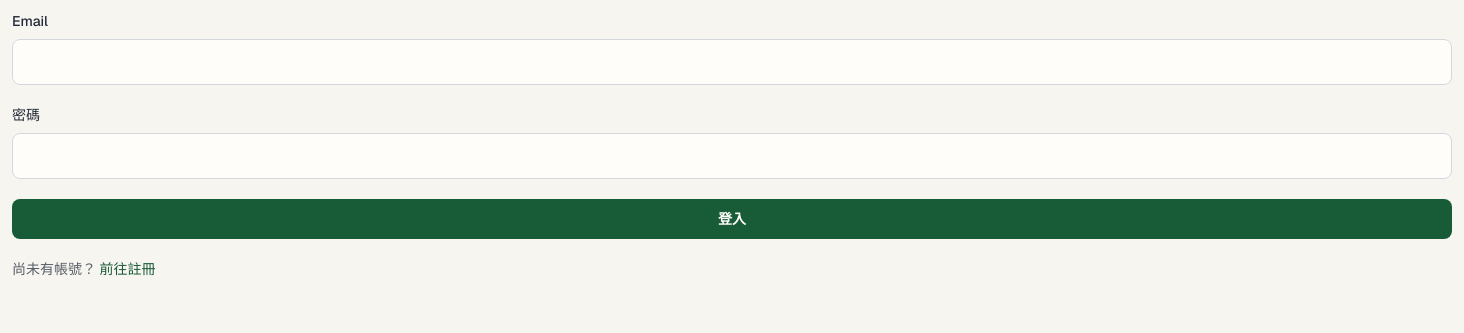
Test case: LoginForm › RATE_LIMITED 時顯示登入太頻繁訊息
Type "user@example.com" into the field labelled "Email" at (732, 62), box [12,39,1452,85]
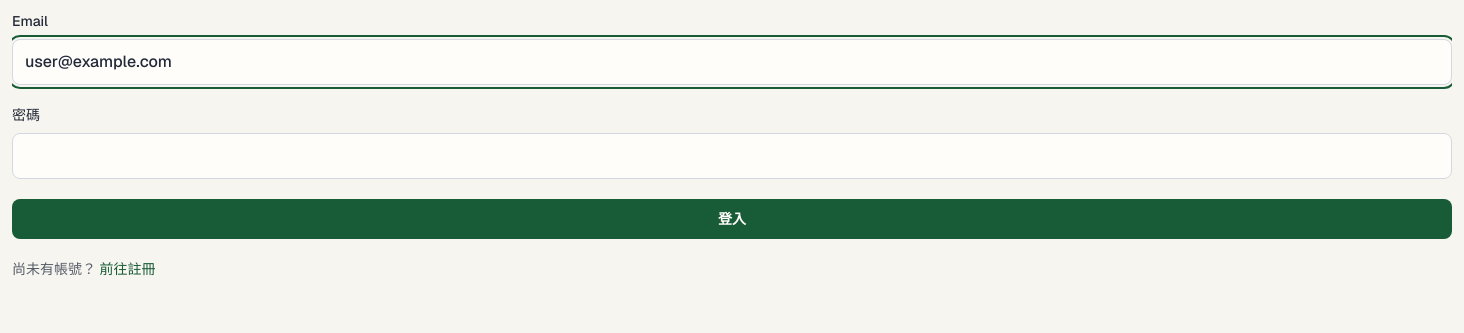
Type "password123" into the password field labelled "密碼" at (732, 156), box [12,133,1452,179]
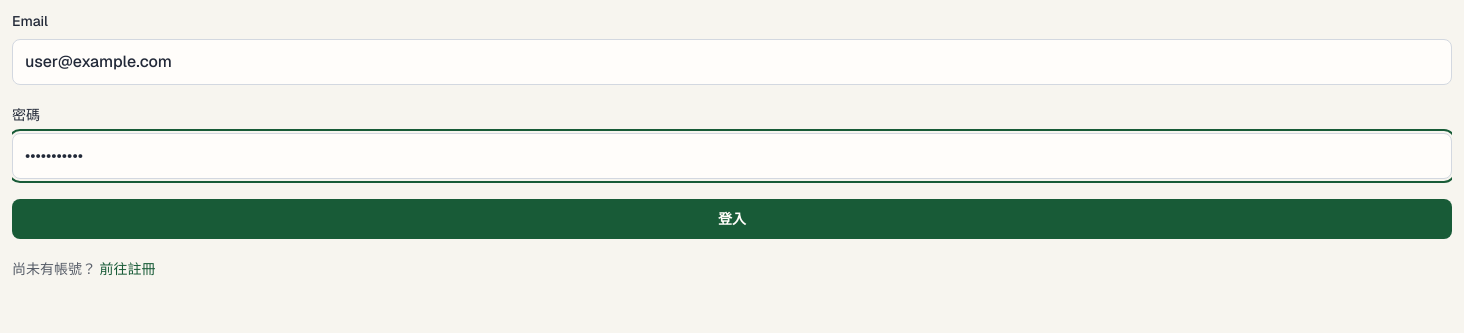
Click the button "登入" at (732, 219), box [12,199,1452,239]
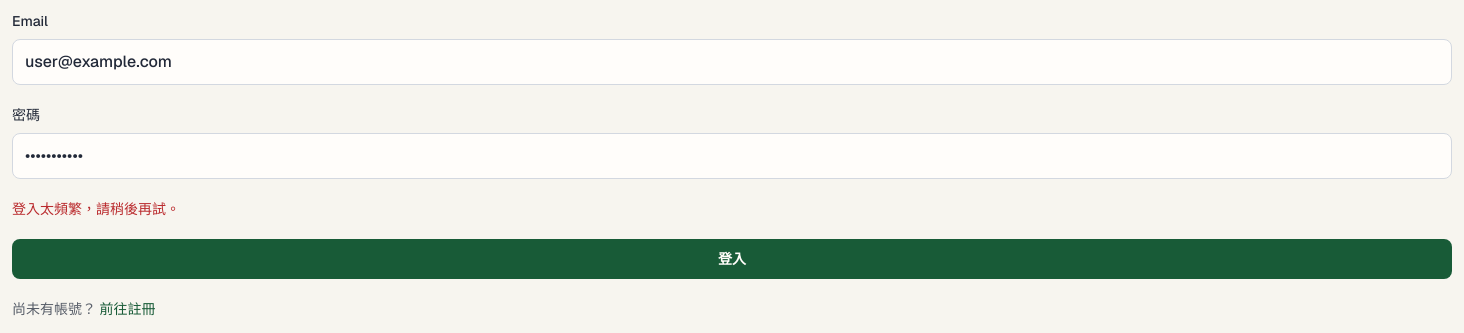
Expected: the text "登入太頻繁，請稍後再試。" is shown, [12,200,180,218]
